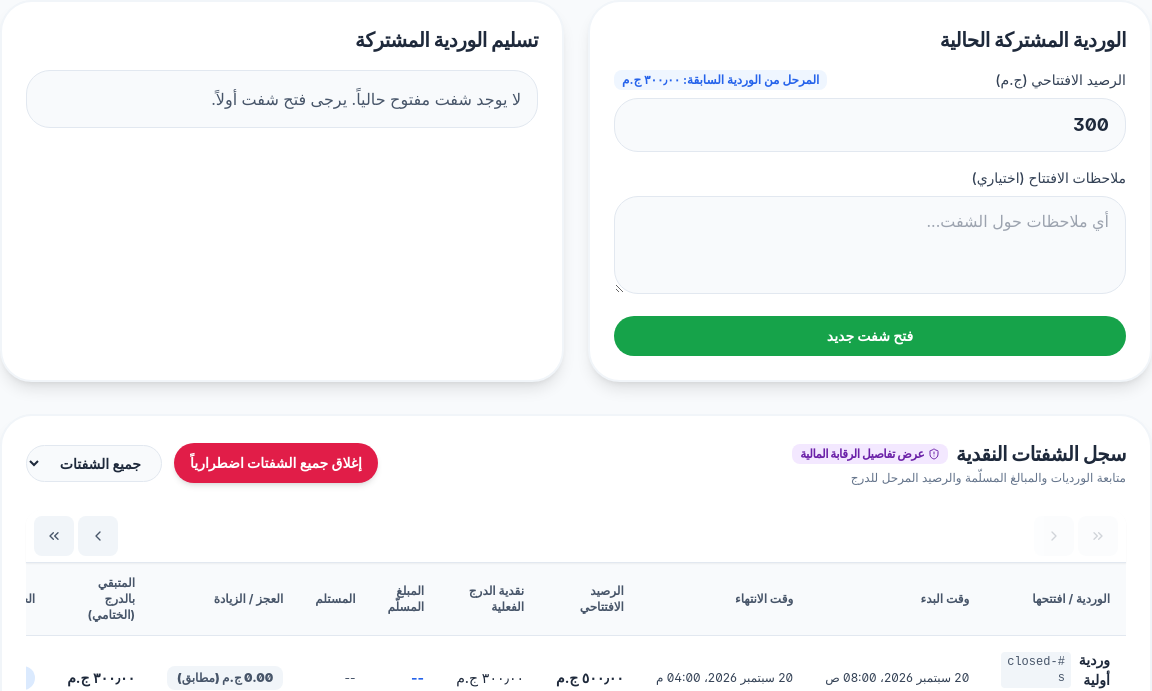
Test: ShiftManagementClient async race regressions › does not misreport a completed open-shift write as failed when the follow-up list refresh rejects
The width and height of the screenshot is (1152, 691).
Click the button "فتح شفت جديد" at coordinates (870, 336), box [614,316,1126,356]
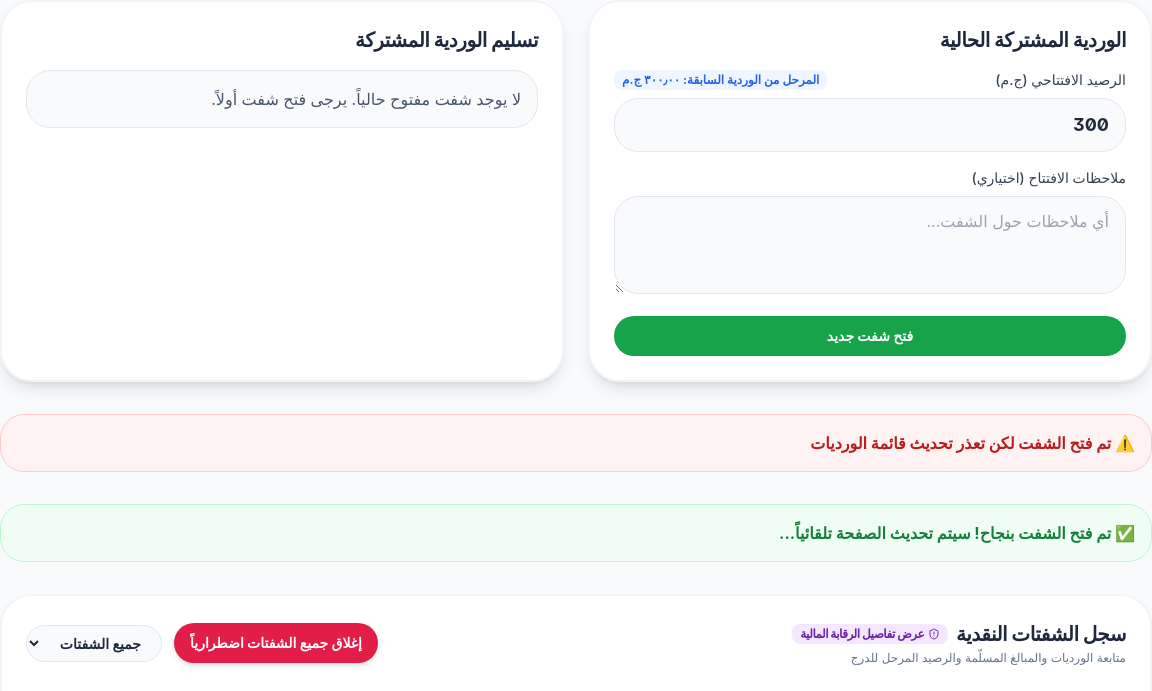
Expected: the text "✅ تم فتح الشفت بنجاح! سيتم تحديث الصفحة تلقائياً..." is shown, [779,523,1135,543]
Expected: the text "⚠️ تم فتح الشفت لكن تعذر تحديث قائمة الورديات" is shown, [810,433,1135,453]
